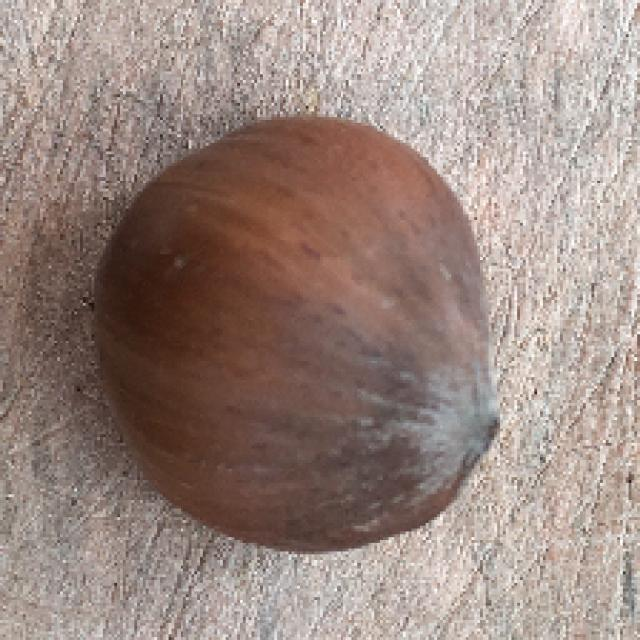qualityHazelnut: (94, 112, 505, 561)
